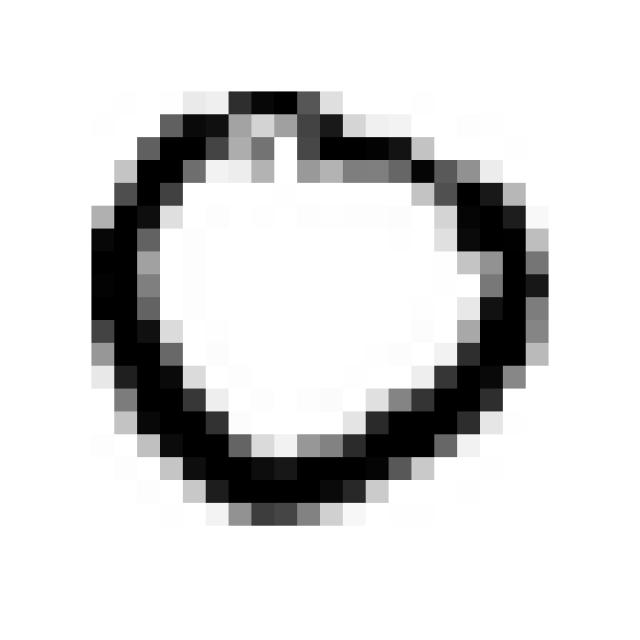5 -five-: (73, 75, 558, 538)
